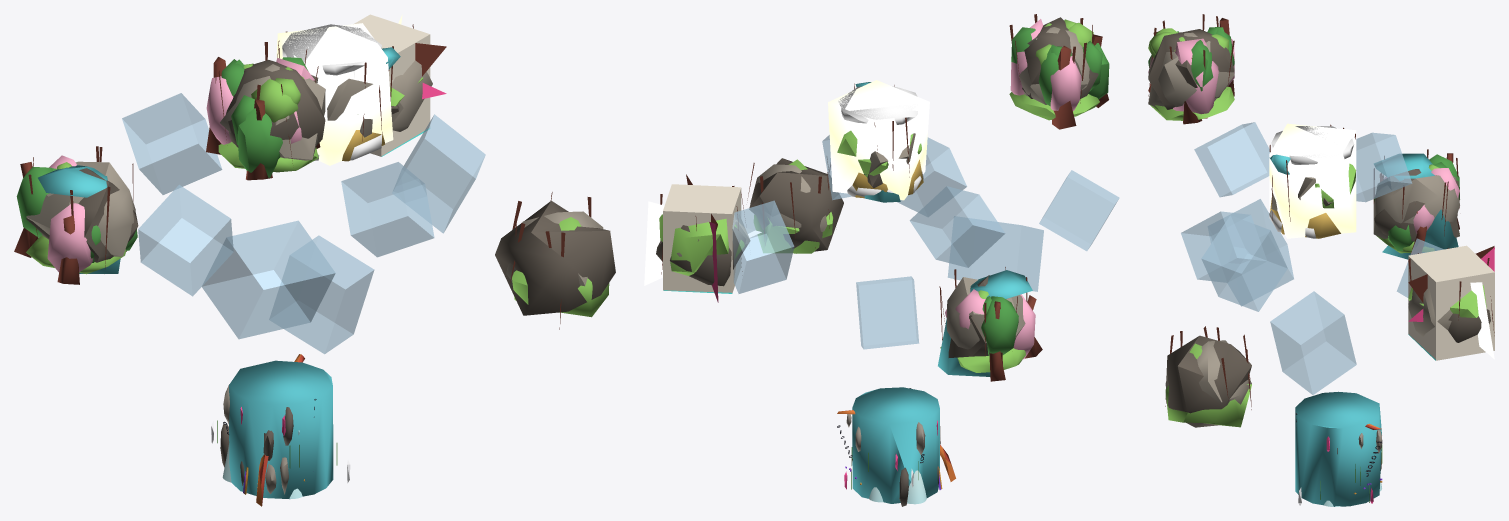
Rendered from ile-archipel-v4-leger.glb.
3 renders of one model, left to right at view 1: azimuth 30°, elevation 25°; view 2: azimuth 150°, elevation 25°; view 3: azimuth 270°, elevation 25°, orthographic. The views are drawn at different scales.
Visible parts, largest first — view 1: archipel_decor, archipel_ilot3, archipel_ilot1, archipel_bloc6, archipel_ilot4, archipel_ilot0, archipel_bloc3, archipel_bloc1, archipel_bloc4, archipel_bloc5, archipel_bloc0, archipel_ilot2; view 2: archipel_ilot0, archipel_ilot2, archipel_decor, archipel_ilot1, archipel_ilot3, archipel_ilot4, archipel_bloc6, archipel_bloc5, archipel_bloc2, archipel_bloc3, archipel_bloc1, archipel_bloc4 (+1 smaller); view 3: archipel_ilot0, archipel_decor, archipel_ilot2, archipel_ilot1, archipel_ilot3, archipel_ilot4, archipel_bloc3, archipel_bloc0, archipel_bloc4, archipel_bloc1, archipel_bloc6, archipel_bloc5 (+1 smaller).
Boxes of the visible parts, x1,y1,x2,y2 form: archipel_decor: (211,354,350,506); archipel_ilot3: (206,42,325,180); archipel_ilot1: (14,146,138,284); archipel_bloc6: (202,220,335,339); archipel_ilot4: (495,192,615,329); archipel_ilot0: (276,23,400,165); archipel_bloc3: (269,235,374,354); archipel_bloc1: (138,184,233,296); archipel_bloc4: (341,162,434,257); archipel_bloc5: (122,93,222,194); archipel_bloc0: (392,114,485,233); archipel_ilot2: (353,14,446,156); archipel_ilot0: (828,80,929,202); archipel_ilot2: (644,174,761,302); archipel_decor: (837,387,955,506); archipel_ilot1: (938,267,1042,381); archipel_ilot3: (1009,14,1109,129); archipel_ilot4: (747,158,843,253); archipel_bloc6: (947,216,1043,291); archipel_bloc5: (909,186,1005,267); archipel_bloc2: (732,200,794,293); archipel_bloc3: (856,276,919,349); archipel_bloc1: (1039,170,1119,251); archipel_bloc4: (897,137,966,216); archipel_ilot0: (1269,123,1356,238); archipel_decor: (1295,391,1382,506); archipel_ilot2: (1408,245,1494,360); archipel_ilot1: (1373,149,1459,259); archipel_ilot3: (1148,14,1234,124); archipel_ilot4: (1165,326,1251,427); archipel_bloc3: (1270,291,1356,394); archipel_bloc0: (1201,215,1287,311); archipel_bloc4: (1181,211,1266,282); archipel_bloc1: (1194,122,1269,197); archipel_bloc6: (1208,199,1293,306); archipel_bloc5: (1356,132,1412,202).
Size of the model in its own units: 9.86 by 10.6 by 8.
